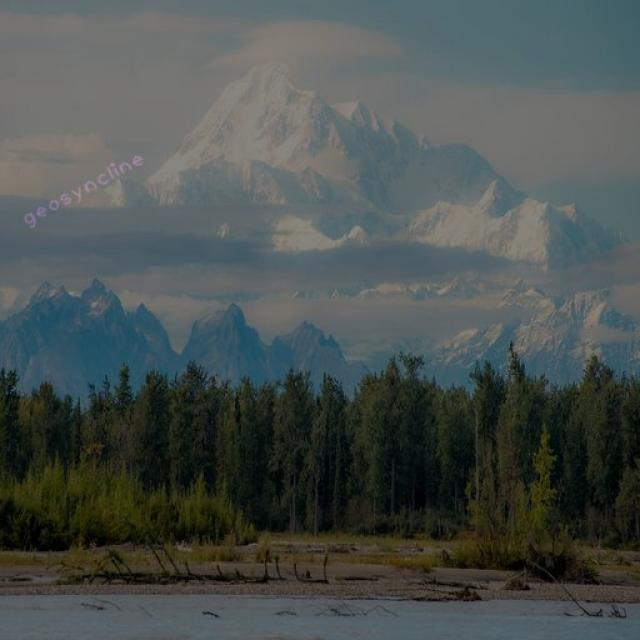watermark: (20, 146, 146, 229)
